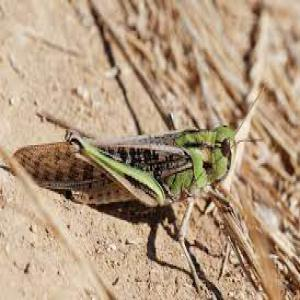locust: (16, 89, 274, 223)
